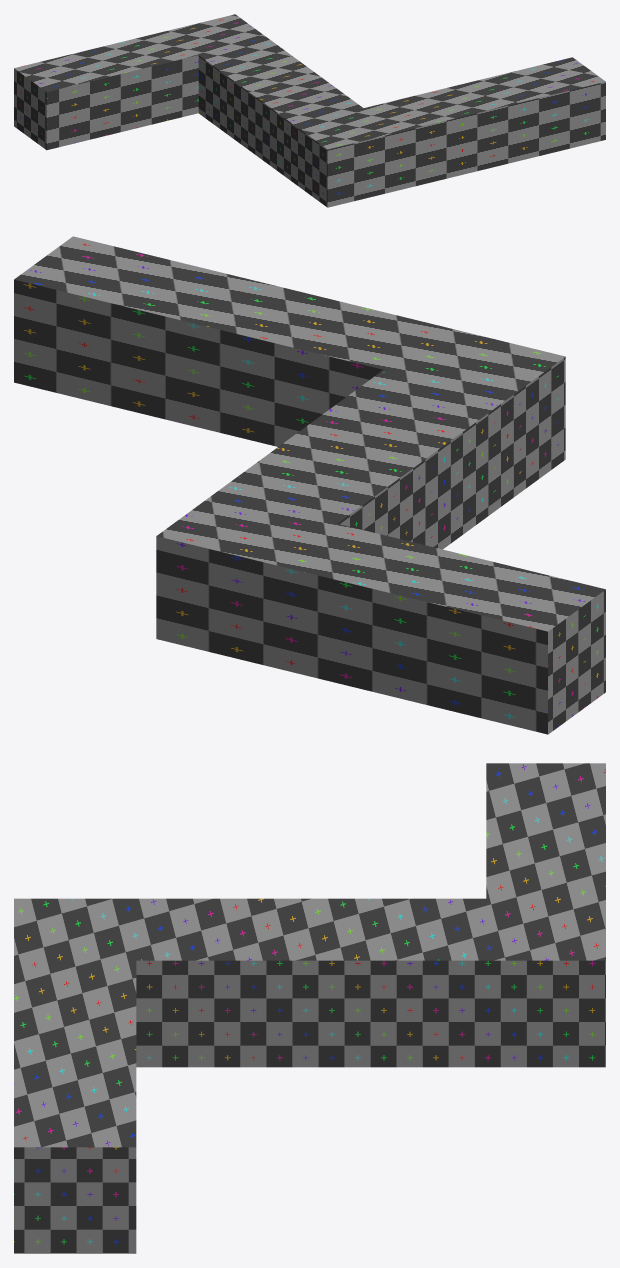
Rendered from scenario_prototype_interior_floor_03_left.fbx.
3 renders of one model, top to bottom at view 1: azimuth 30°, elevation 25°; view 2: azimuth 150°, elevation 25°; view 3: azimuth 270°, elevation 25°, orthographic. The views are drawn at different scales.
Parts seen in each view (by area): view 1: interior_floor03_left; view 2: interior_floor03_left; view 3: interior_floor03_left.
Boxes of the visible parts, <box> form: interior_floor03_left: <box>14,14,605,207</box>; interior_floor03_left: <box>14,236,605,734</box>; interior_floor03_left: <box>14,763,605,1253</box>.
Bounding box in the file's own units: 3095 × 400 × 2016.
